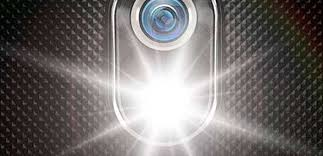Flash: (84, 1, 251, 156)
